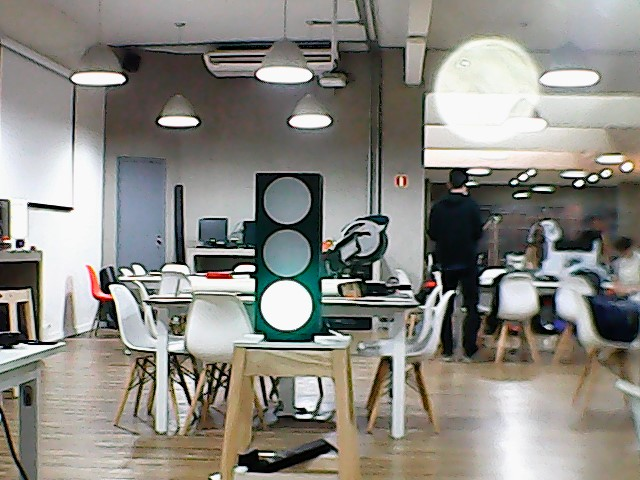verde: (250, 169, 327, 346)
